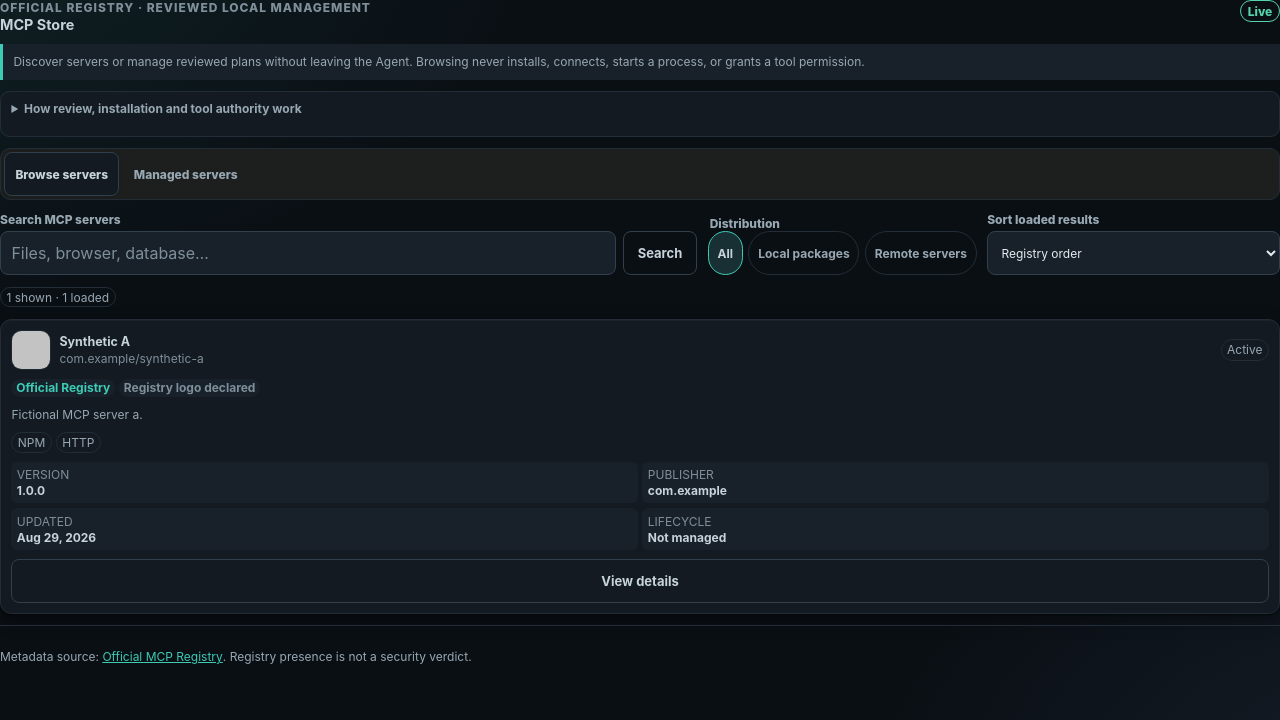
AgentMcpStorePanel › opens an exact read-only review and routes protected lifecycle through a managed plan
The image size is (1280, 720).
Expected: the text "Synthetic A" is shown, [59,334,130,349]
Click the button with aria-label "Review Synthetic A". click: {"x": 640, "y": 581}
box: [11,559,1269,603]
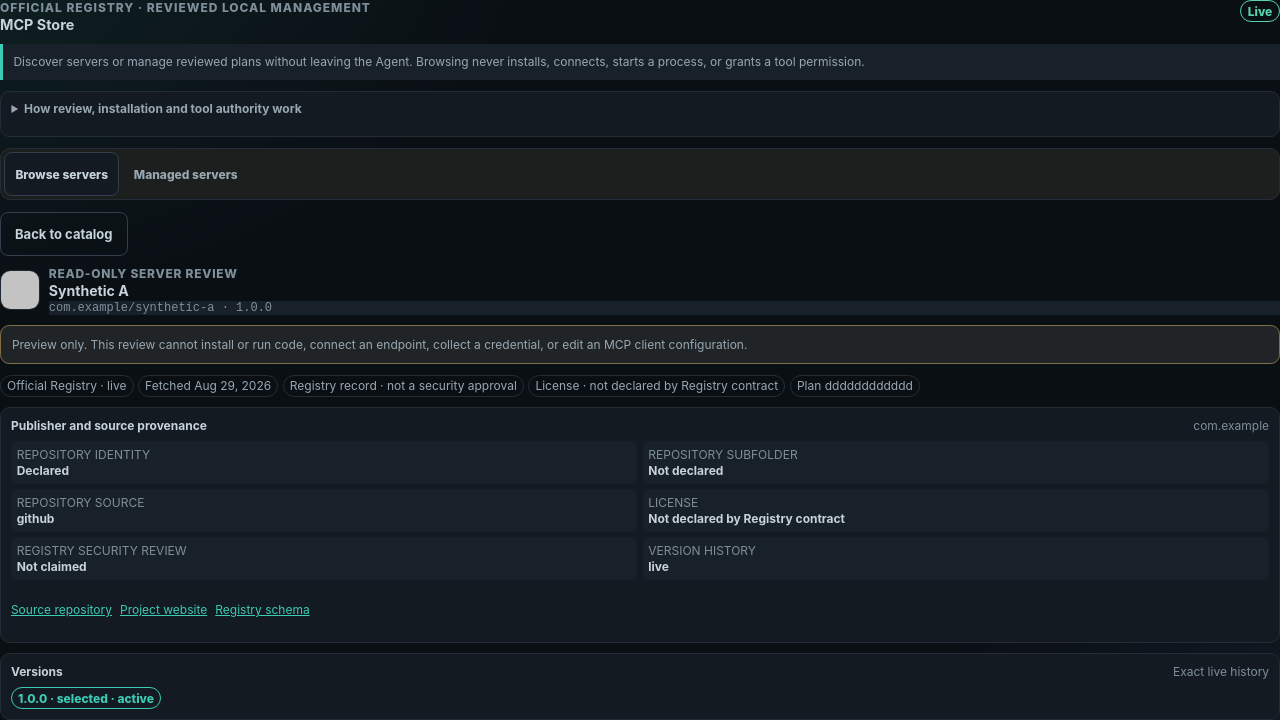
Expected: the text "Preview only. This review cannot install or run code, connect an endpoint, collect a credential, or edit an MCP client c" is shown, [12,337,747,352]
Expected: the text "Registry record · not a security approval" is shown, [283,375,524,397]
Click the button "Back to catalog". click: {"x": 64, "y": 234}
box: [0,212,128,256]
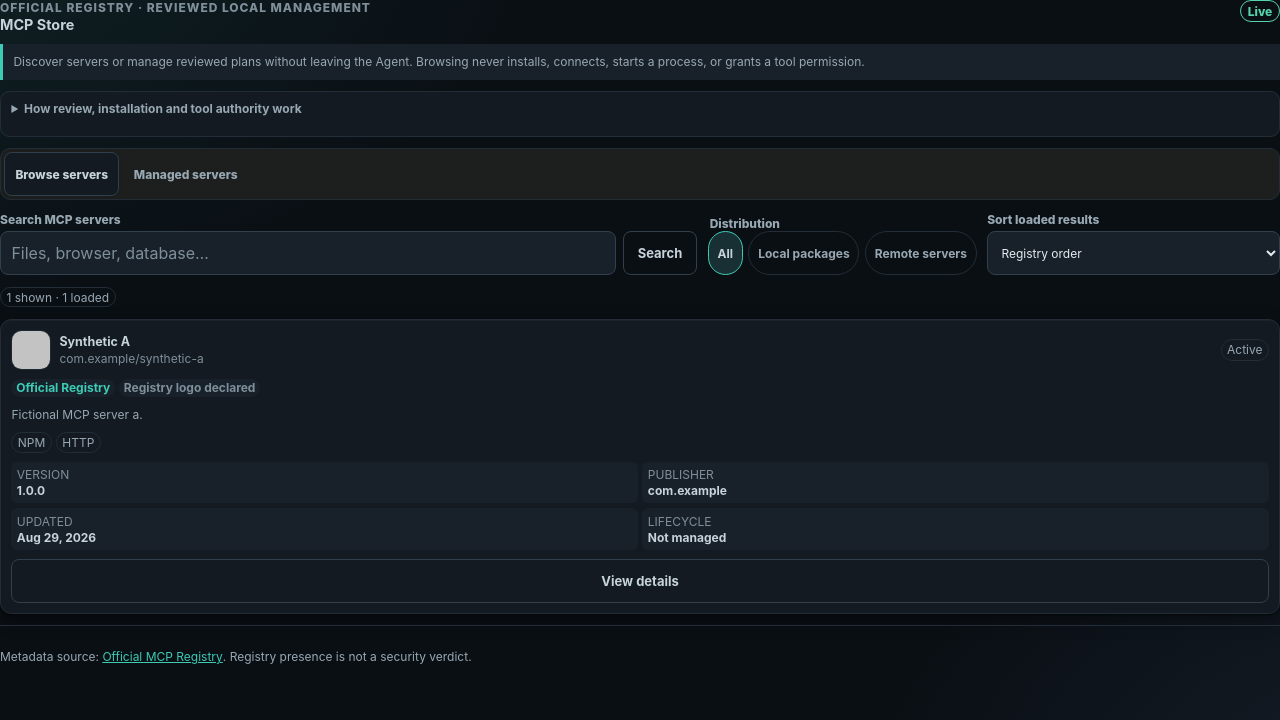
Expected: the text "Synthetic A" is shown, [59,334,130,349]
Expected: the search field labelled "Search MCP servers" is shown, [0,231,616,275]
